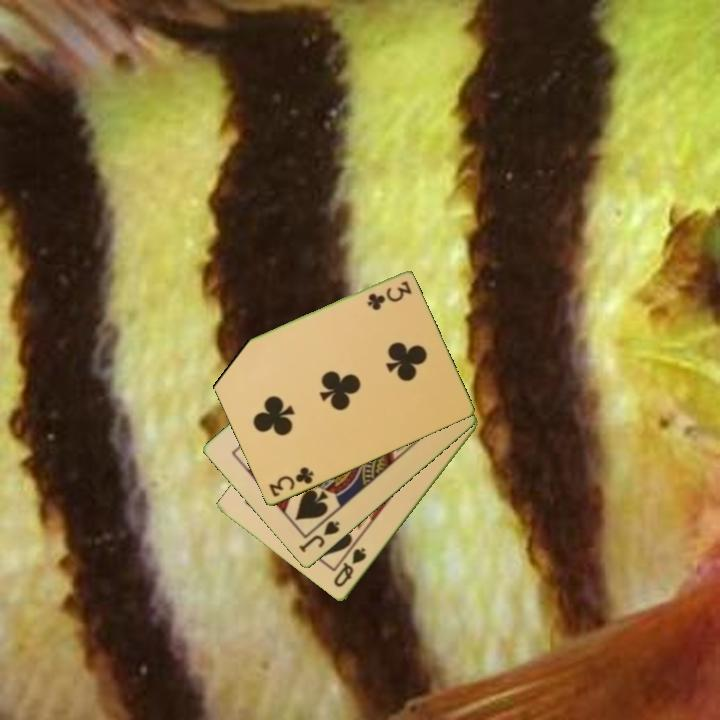3c: (265, 464, 316, 500), (363, 278, 414, 312)
Js: (295, 517, 343, 556)
Qs: (330, 544, 370, 590)
